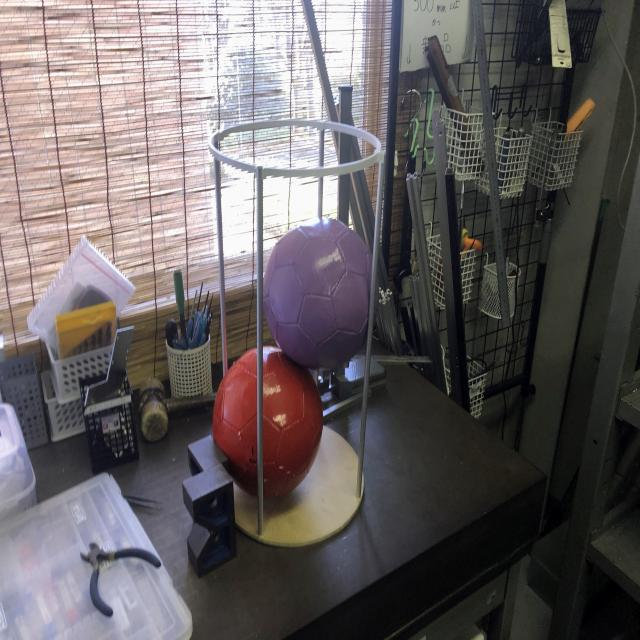purple_ball: (264, 217, 379, 369)
red_ball: (212, 343, 322, 499)
